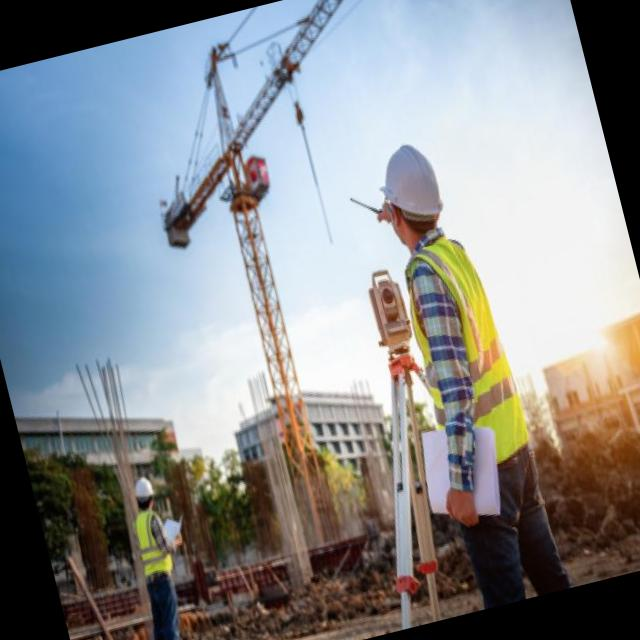Helmet: (366, 141, 451, 227), (125, 468, 158, 504)
Vest: (387, 222, 536, 472), (130, 503, 178, 582)
